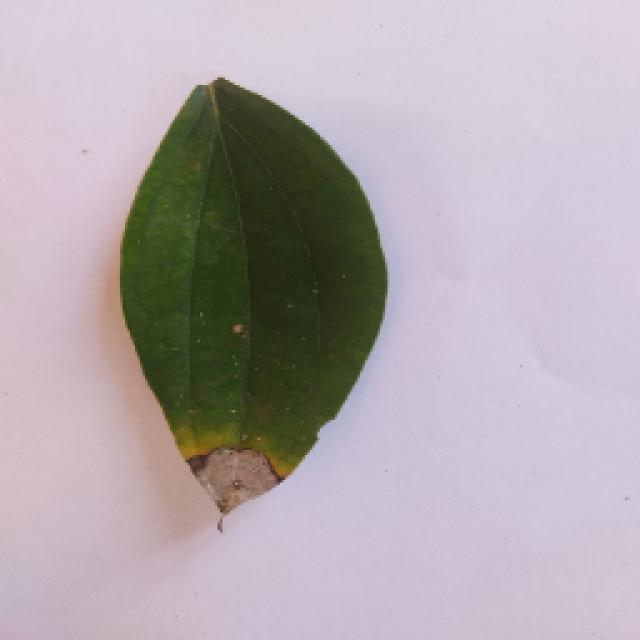footrot: (110, 75, 392, 530)
